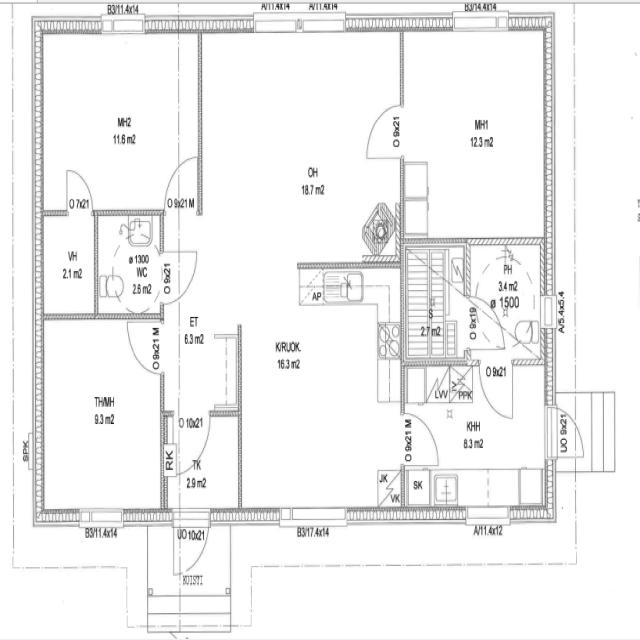door: (44, 166, 98, 316), (362, 99, 404, 162), (403, 411, 441, 468), (548, 406, 586, 463), (125, 318, 162, 376), (176, 417, 208, 477), (62, 164, 97, 218), (161, 157, 194, 208), (172, 248, 199, 302)
window: (256, 11, 350, 40), (448, 9, 512, 38), (286, 502, 350, 525), (251, 13, 303, 37), (98, 15, 148, 39), (463, 504, 512, 524), (81, 506, 125, 527), (540, 290, 558, 335)
zone: (208, 31, 398, 266), (402, 27, 548, 242), (42, 32, 190, 212), (39, 314, 165, 514), (414, 366, 552, 512), (464, 242, 542, 353), (96, 214, 166, 320), (406, 240, 465, 362), (42, 213, 98, 319), (548, 406, 587, 463)
